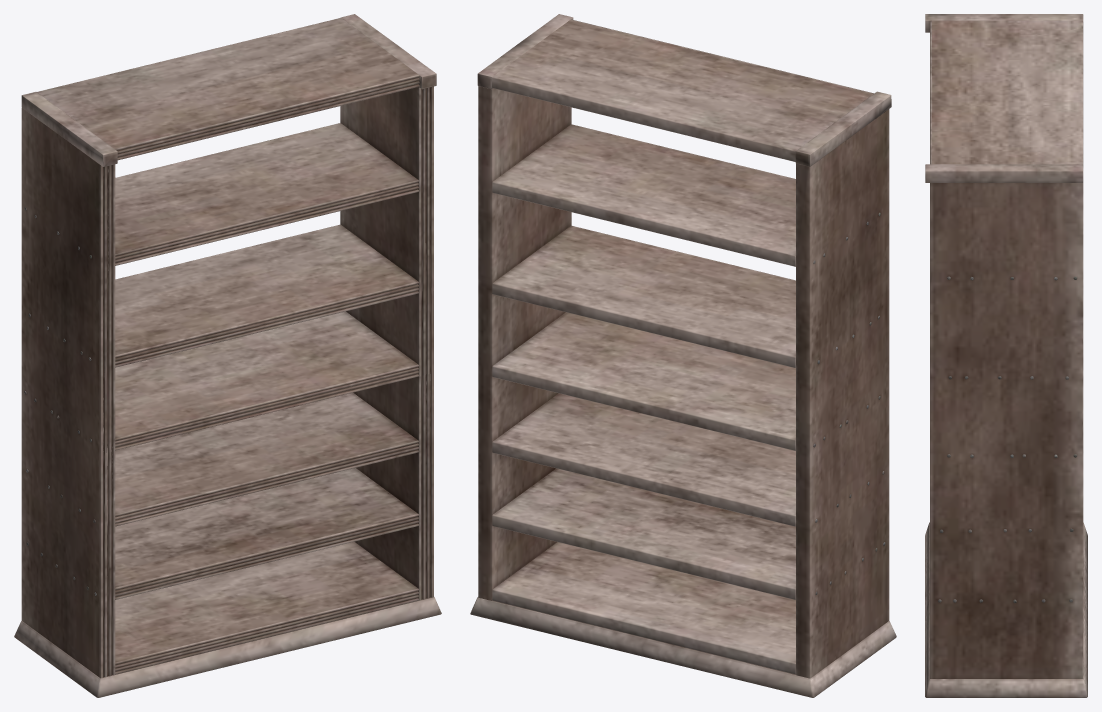
Rendered from wooden_bookshelf_worn.glb.
3 views of the same model, side by side, from view 1: azimuth 30°, elevation 25°; view 2: azimuth 150°, elevation 25°; view 3: azimuth 270°, elevation 25° (orthographic). The views are drawn at different scales.
Visible parts, largest first — view 1: wooden_bookshelf_worn; view 2: wooden_bookshelf_worn; view 3: wooden_bookshelf_worn.
Part boxes in pixels (bbox=[...]): wooden_bookshelf_worn: bbox=[14, 14, 441, 697]; wooden_bookshelf_worn: bbox=[470, 14, 896, 697]; wooden_bookshelf_worn: bbox=[925, 14, 1087, 697].
Bounding box in the file's own units: 1.37 × 2.06 × 0.5814.
Materials: 1 (1 with a texture image).
